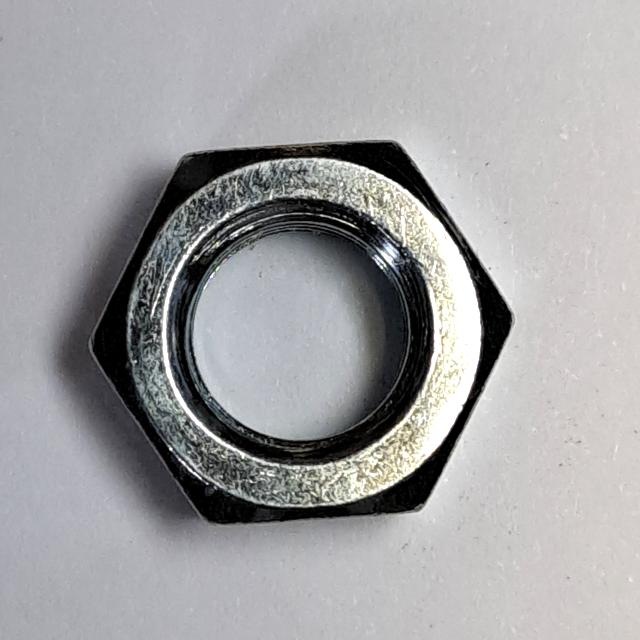Excellent: (74, 126, 524, 542)
